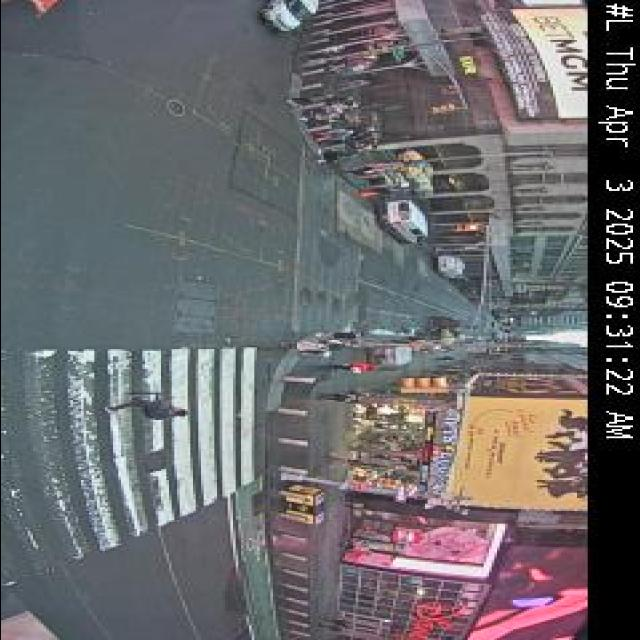open parking: (392, 228, 488, 280)
